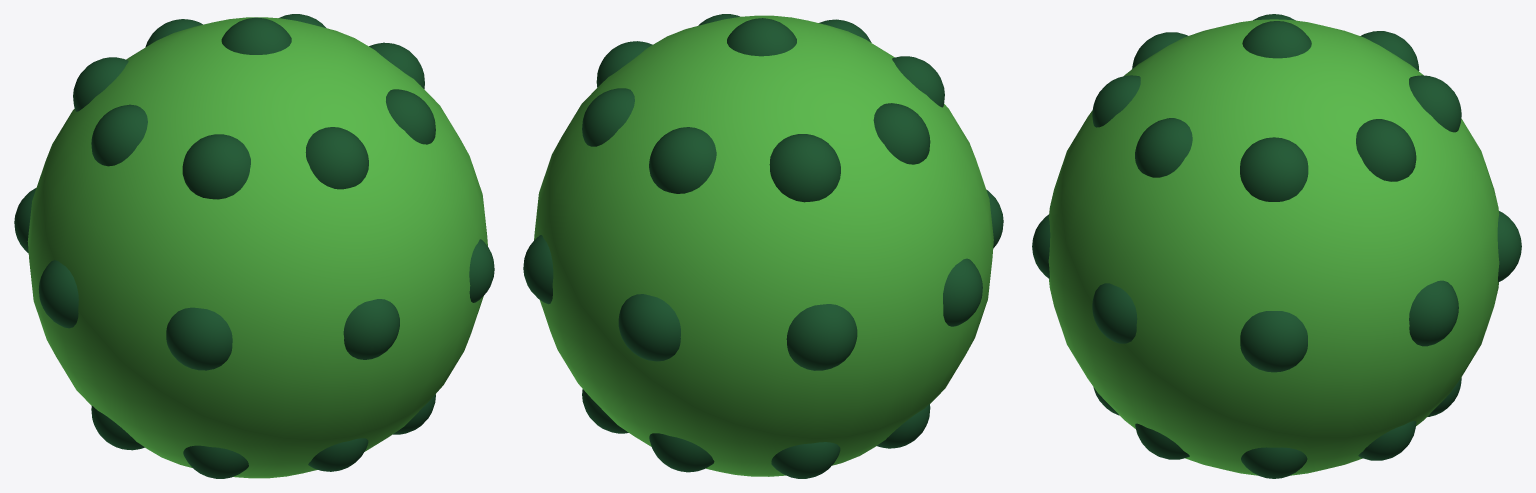
File: Lisosomasglb.glb
3 renders of one model, left to right at view 1: azimuth 30°, elevation 25°; view 2: azimuth 150°, elevation 25°; view 3: azimuth 270°, elevation 25°, orthographic.
Parts seen in each view (by area): view 1: lisosoma; view 2: lisosoma; view 3: lisosoma.
Part boxes in pixels (x1=…): lisosoma: x1=14, y1=14, x2=494, y2=478; lisosoma: x1=523, y1=14, x2=1003, y2=478; lisosoma: x1=1032, y1=14, x2=1521, y2=478.
Bounding box in the file's own units: 1.59 × 1.59 × 1.59.
